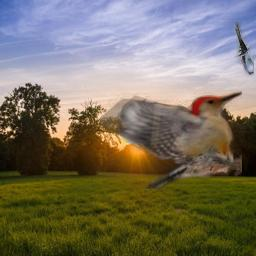Cuckoo: (234, 22, 254, 76)
Woodpecker: (97, 90, 242, 189)
